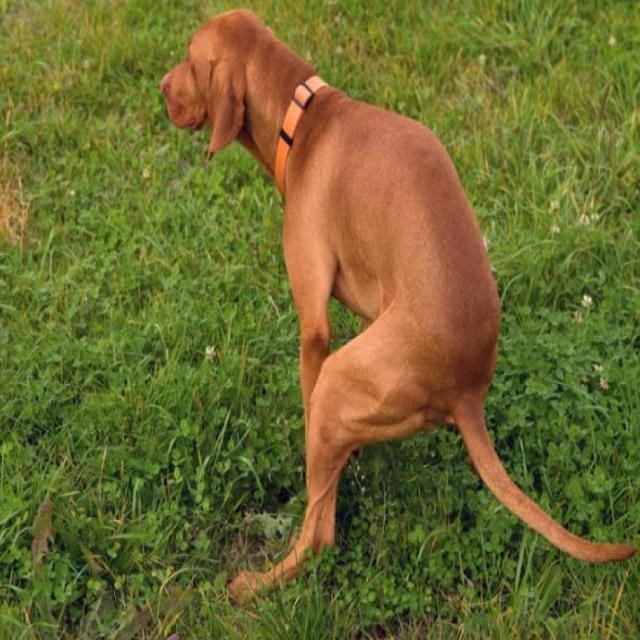Dogpoop: (157, 13, 639, 605)
